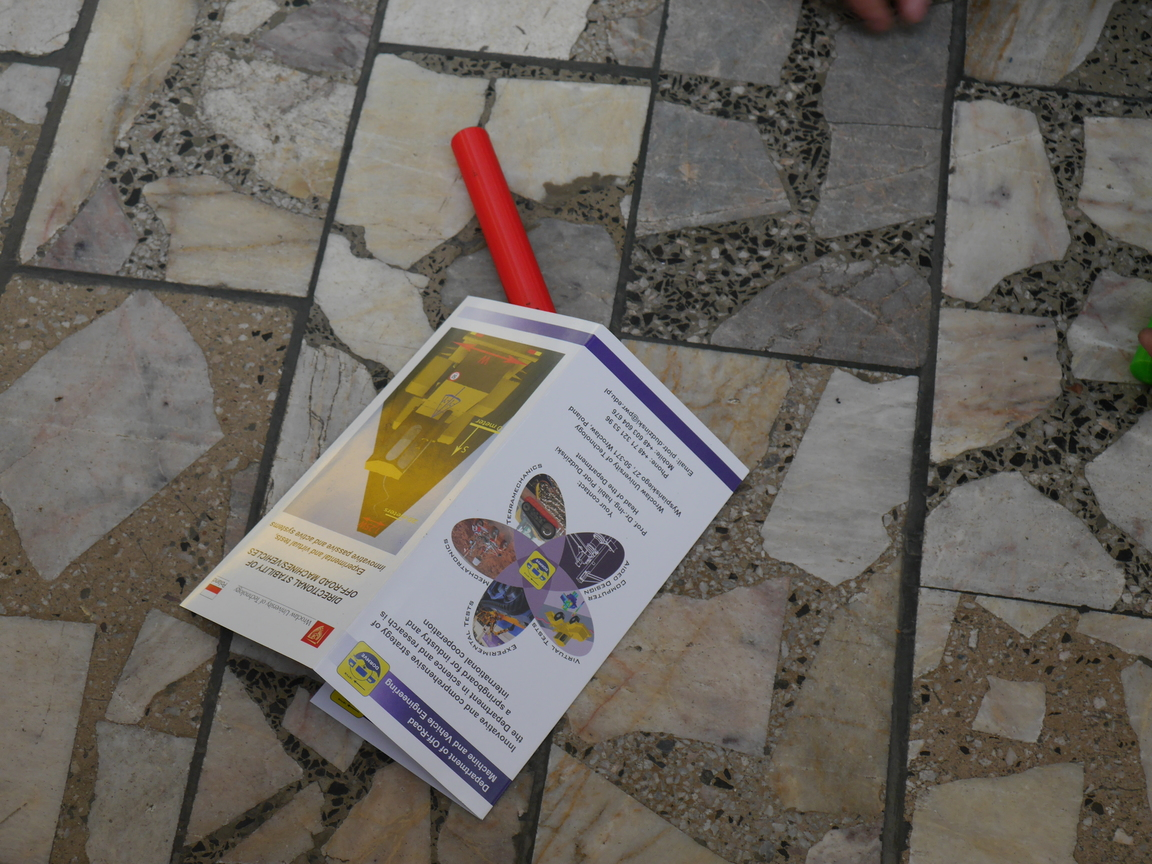cargo_g: (453, 125, 557, 323)
